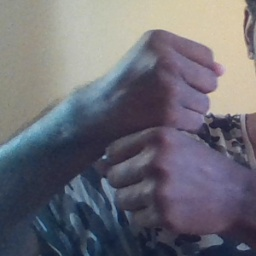G: (99, 23, 232, 245)
